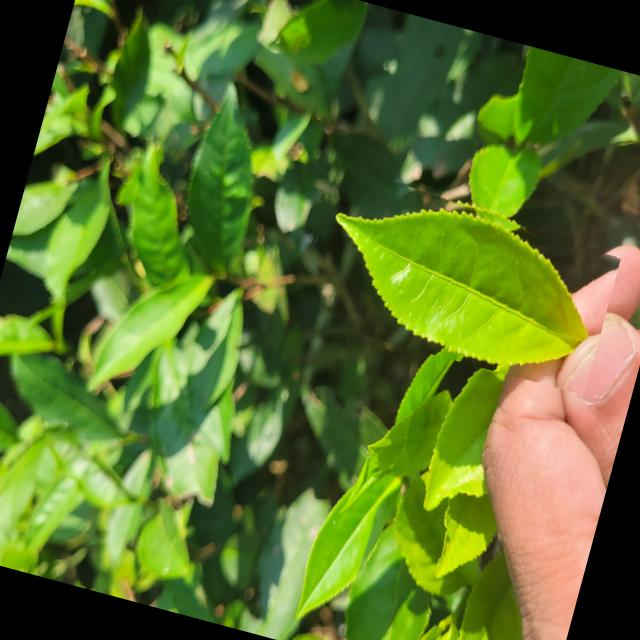Catagory A(1-2 days): (290, 160, 626, 393)
